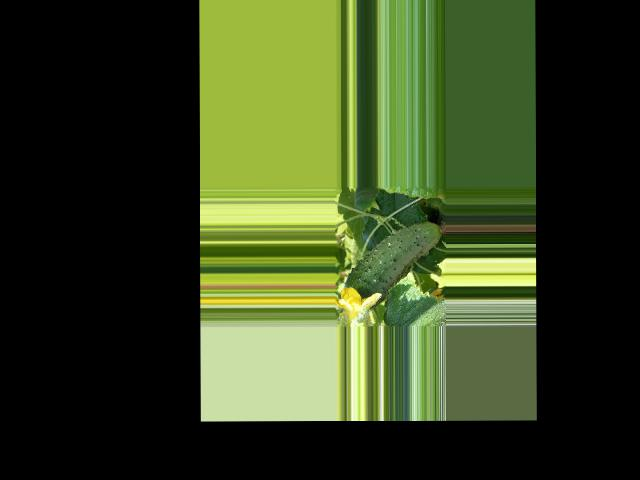cucumber: (344, 221, 446, 308)
